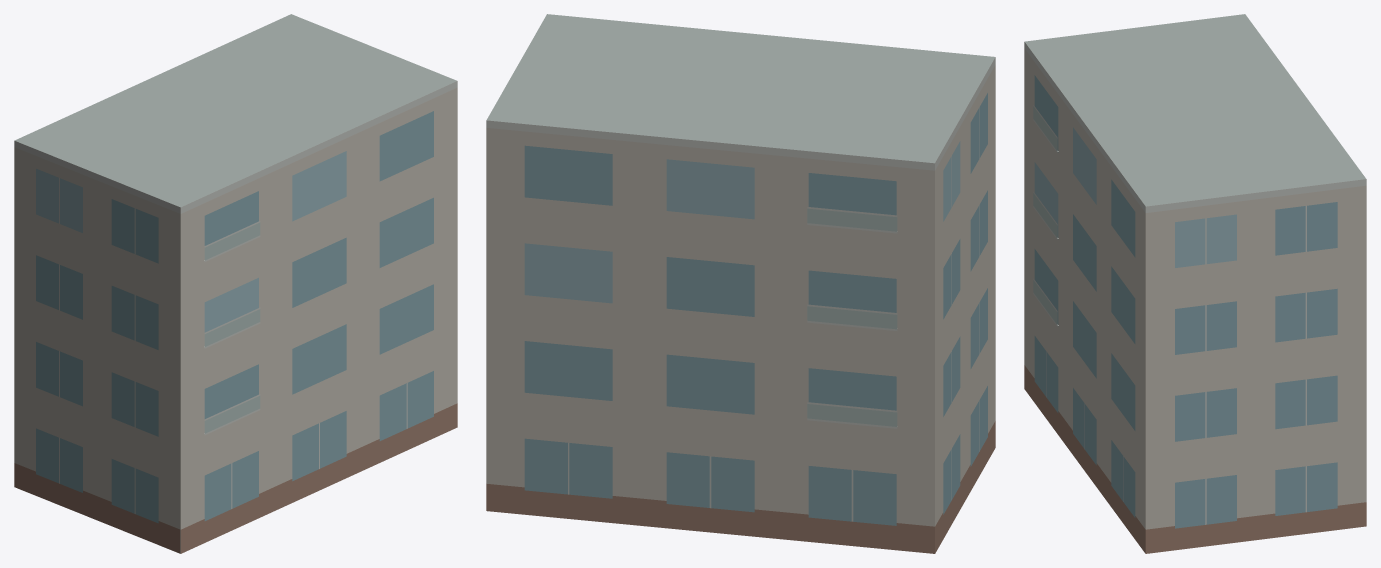
The model's file is survey-upis-33028103.glb.
3 views of the same model, side by side, from view 1: azimuth 30°, elevation 25°; view 2: azimuth 150°, elevation 25°; view 3: azimuth 270°, elevation 25° (orthographic). The views are drawn at different scales.
Parts seen in each view (by area): view 1: survey-upis-33028103.tmp; view 2: survey-upis-33028103.tmp; view 3: survey-upis-33028103.tmp.
Part boxes in pixels (x1=…): survey-upis-33028103.tmp: x1=14, y1=14, x2=457, y2=553; survey-upis-33028103.tmp: x1=486, y1=14, x2=995, y2=553; survey-upis-33028103.tmp: x1=1024, y1=14, x2=1366, y2=553.
Size of the model in its own units: 15.35 by 12.9 by 11.53.
